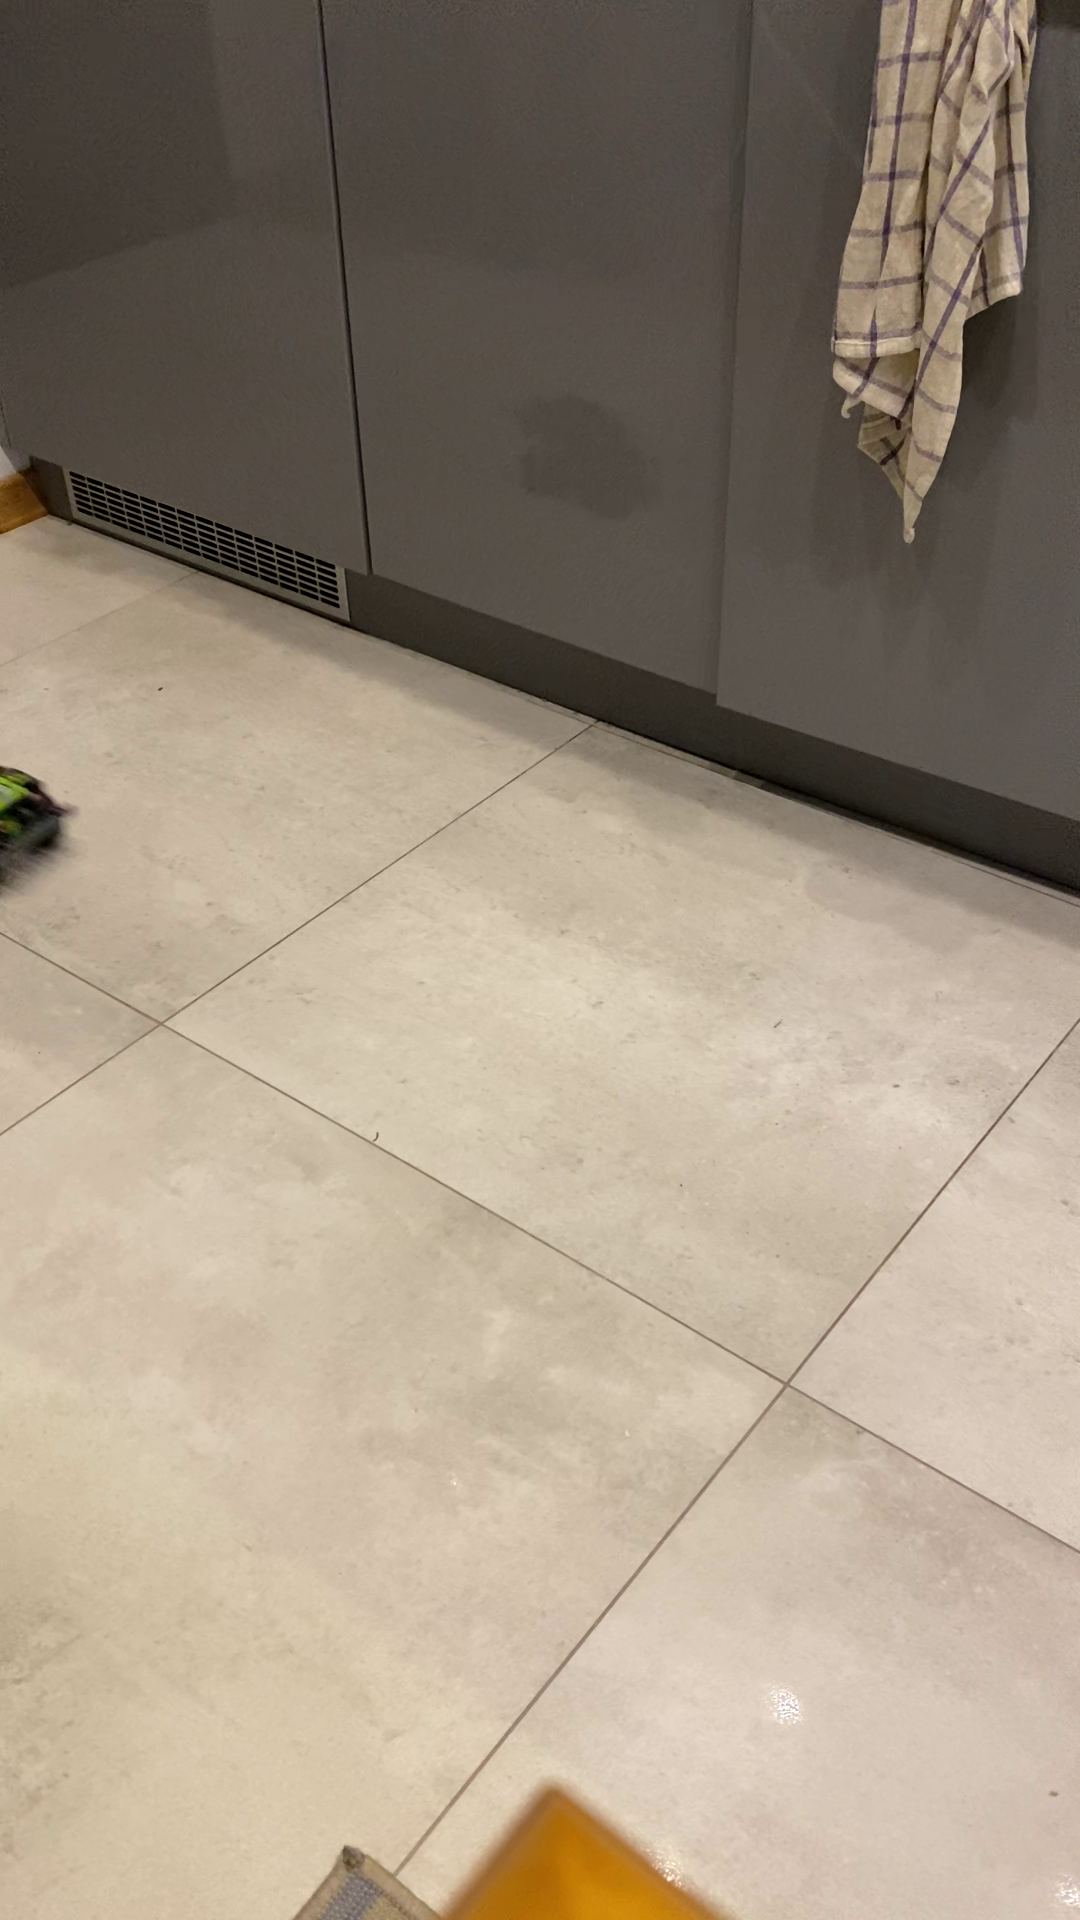car: (1, 761, 80, 898)
